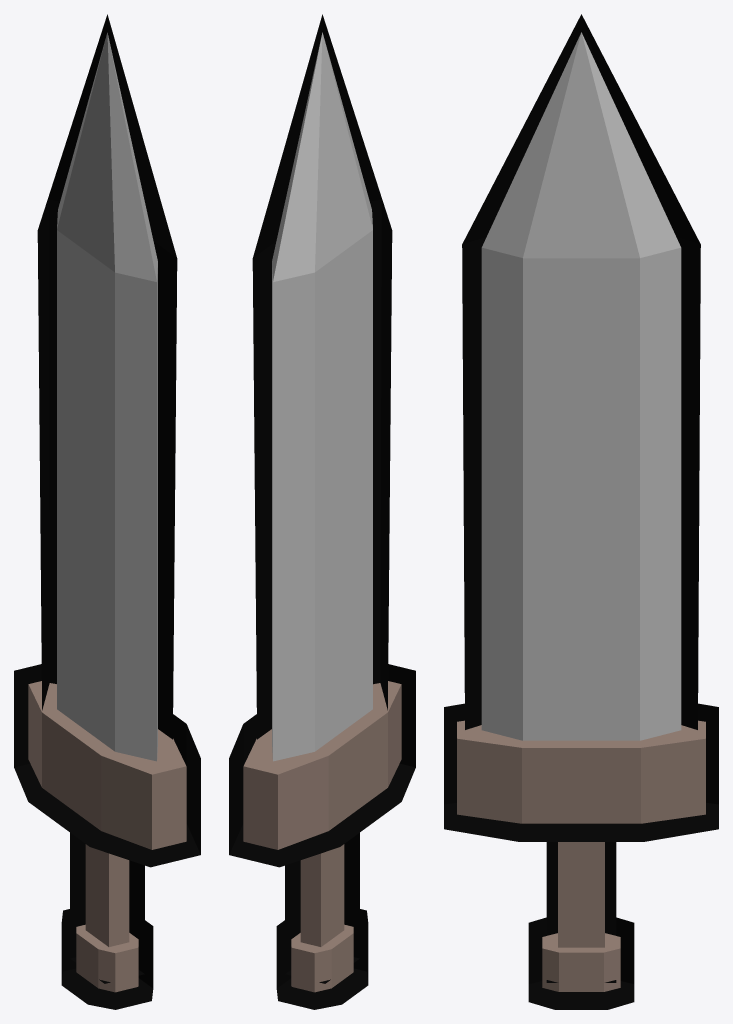
The model's file is sword.fbx.
The picture shows the model from 3 angles, left to right: view 1: azimuth 30°, elevation 25°; view 2: azimuth 150°, elevation 25°; view 3: azimuth 270°, elevation 25°; orthographic projection.
Visible parts, largest first — view 1: Cube, 立方体.002; view 2: Cube, 立方体.002; view 3: Cube, 立方体.002.
Part boxes in pixels (left/top/right/bottom): Cube: left=37, top=14, right=177, bottom=761; 立方体.002: left=14, top=664, right=200, bottom=1009; Cube: left=252, top=14, right=392, bottom=761; 立方体.002: left=229, top=664, right=415, bottom=1009; Cube: left=462, top=14, right=700, bottom=740; 立方体.002: left=444, top=703, right=718, bottom=1009.
Size of the model in its own units: 67.93 by 652 by 166.
